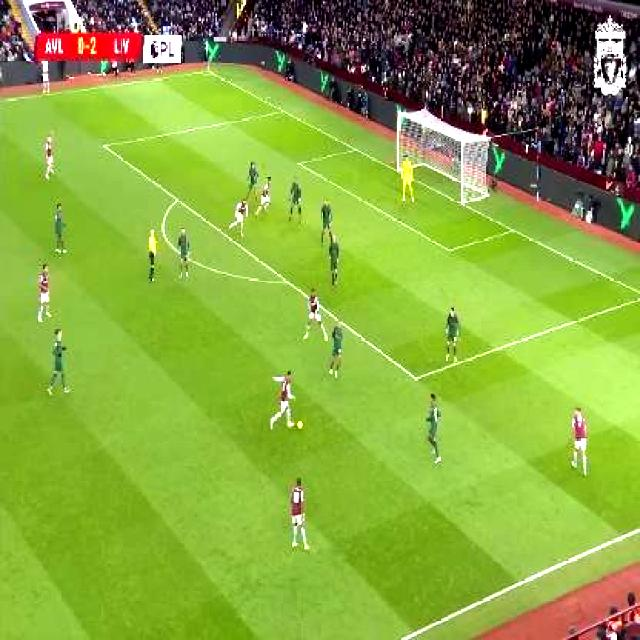bigarea_bottom_inner: (406, 365, 425, 389)
bigarea_top_inner: (97, 135, 111, 154)
bigarea_top_outter: (275, 103, 288, 117)
bottom_arc_area_intersection: (280, 272, 295, 291)
corner: (198, 65, 214, 77)
smallarea_bottom_inner: (440, 237, 457, 260)
smallarea_bottom_outter: (504, 220, 518, 237)
smallarea_top_inner: (290, 154, 304, 171)
smallarea_top_outter: (348, 140, 362, 157)
top_arc_area_intersection: (169, 191, 183, 206)
